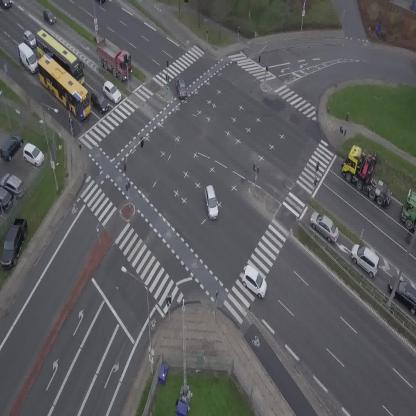bicycle: (68, 118, 75, 134)
bus: (29, 51, 100, 122), (25, 27, 94, 89)
car: (345, 240, 387, 280), (304, 208, 345, 245), (236, 264, 274, 300), (86, 88, 114, 115), (99, 79, 125, 105), (204, 185, 219, 220), (20, 29, 40, 49), (39, 7, 58, 27), (174, 76, 188, 99)
lorry: (334, 138, 398, 218), (89, 34, 141, 84), (12, 40, 43, 77), (400, 189, 416, 232)
